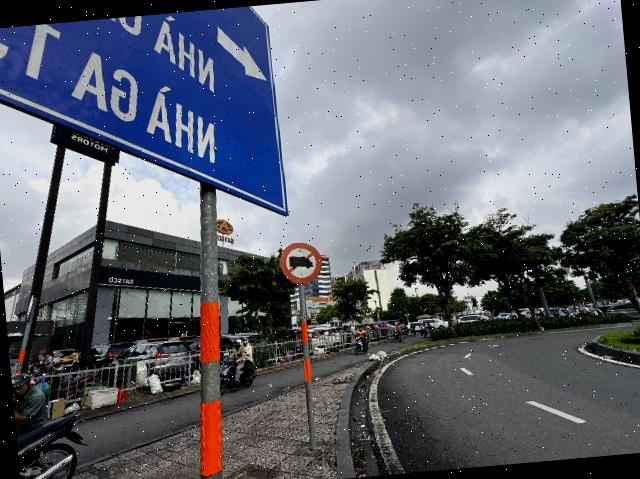cam-xe-tai: (278, 239, 323, 285)
